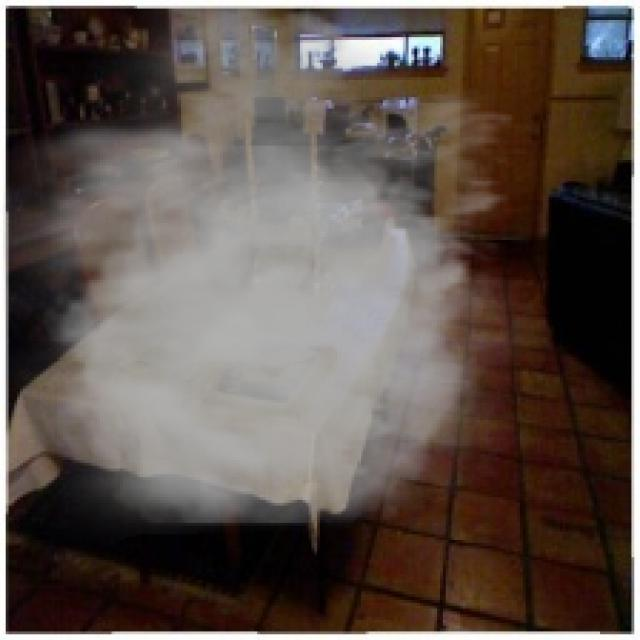smoke: (3, 6, 568, 557)
